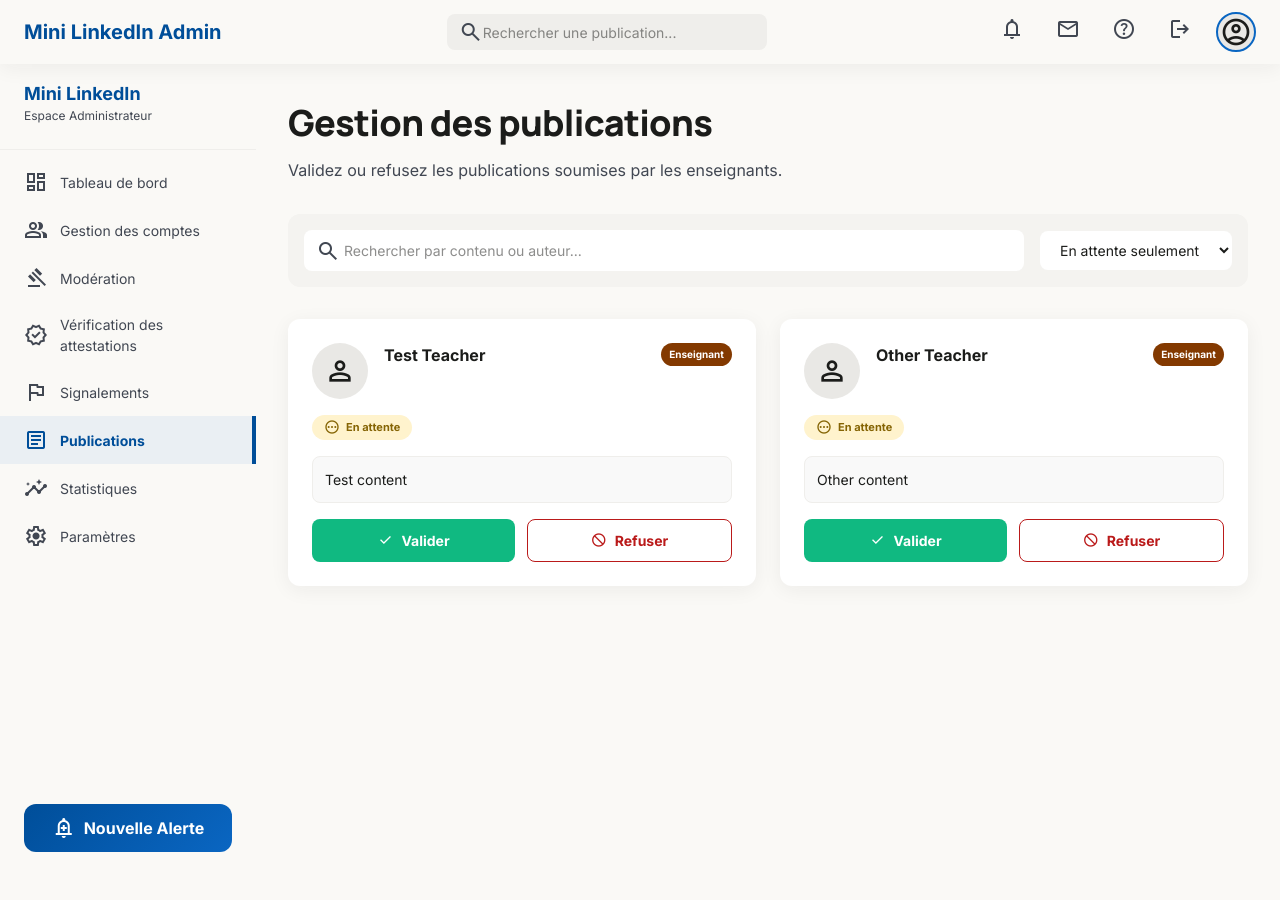
Scenario: Publications › filtre par terme de recherche
Expected: the text "Test content" is shown, [312,456,732,502]
Type "Test" into the field with placeholder "Rechercher par contenu ou auteur..." at (664, 250), box [304,230,1024,271]
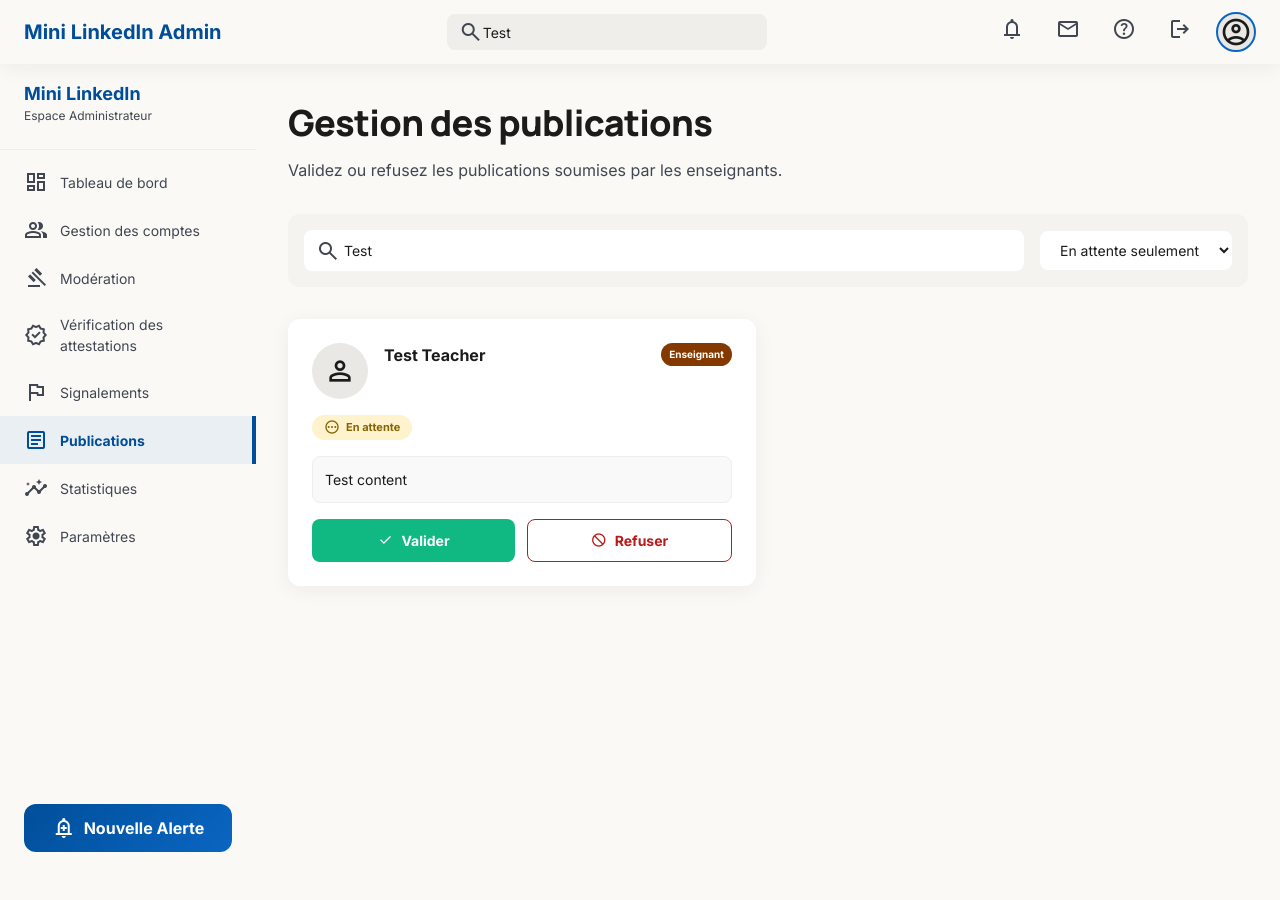
Expected: the text "Test content" is shown, [312,456,732,502]
Now the text "Other content" is gone
